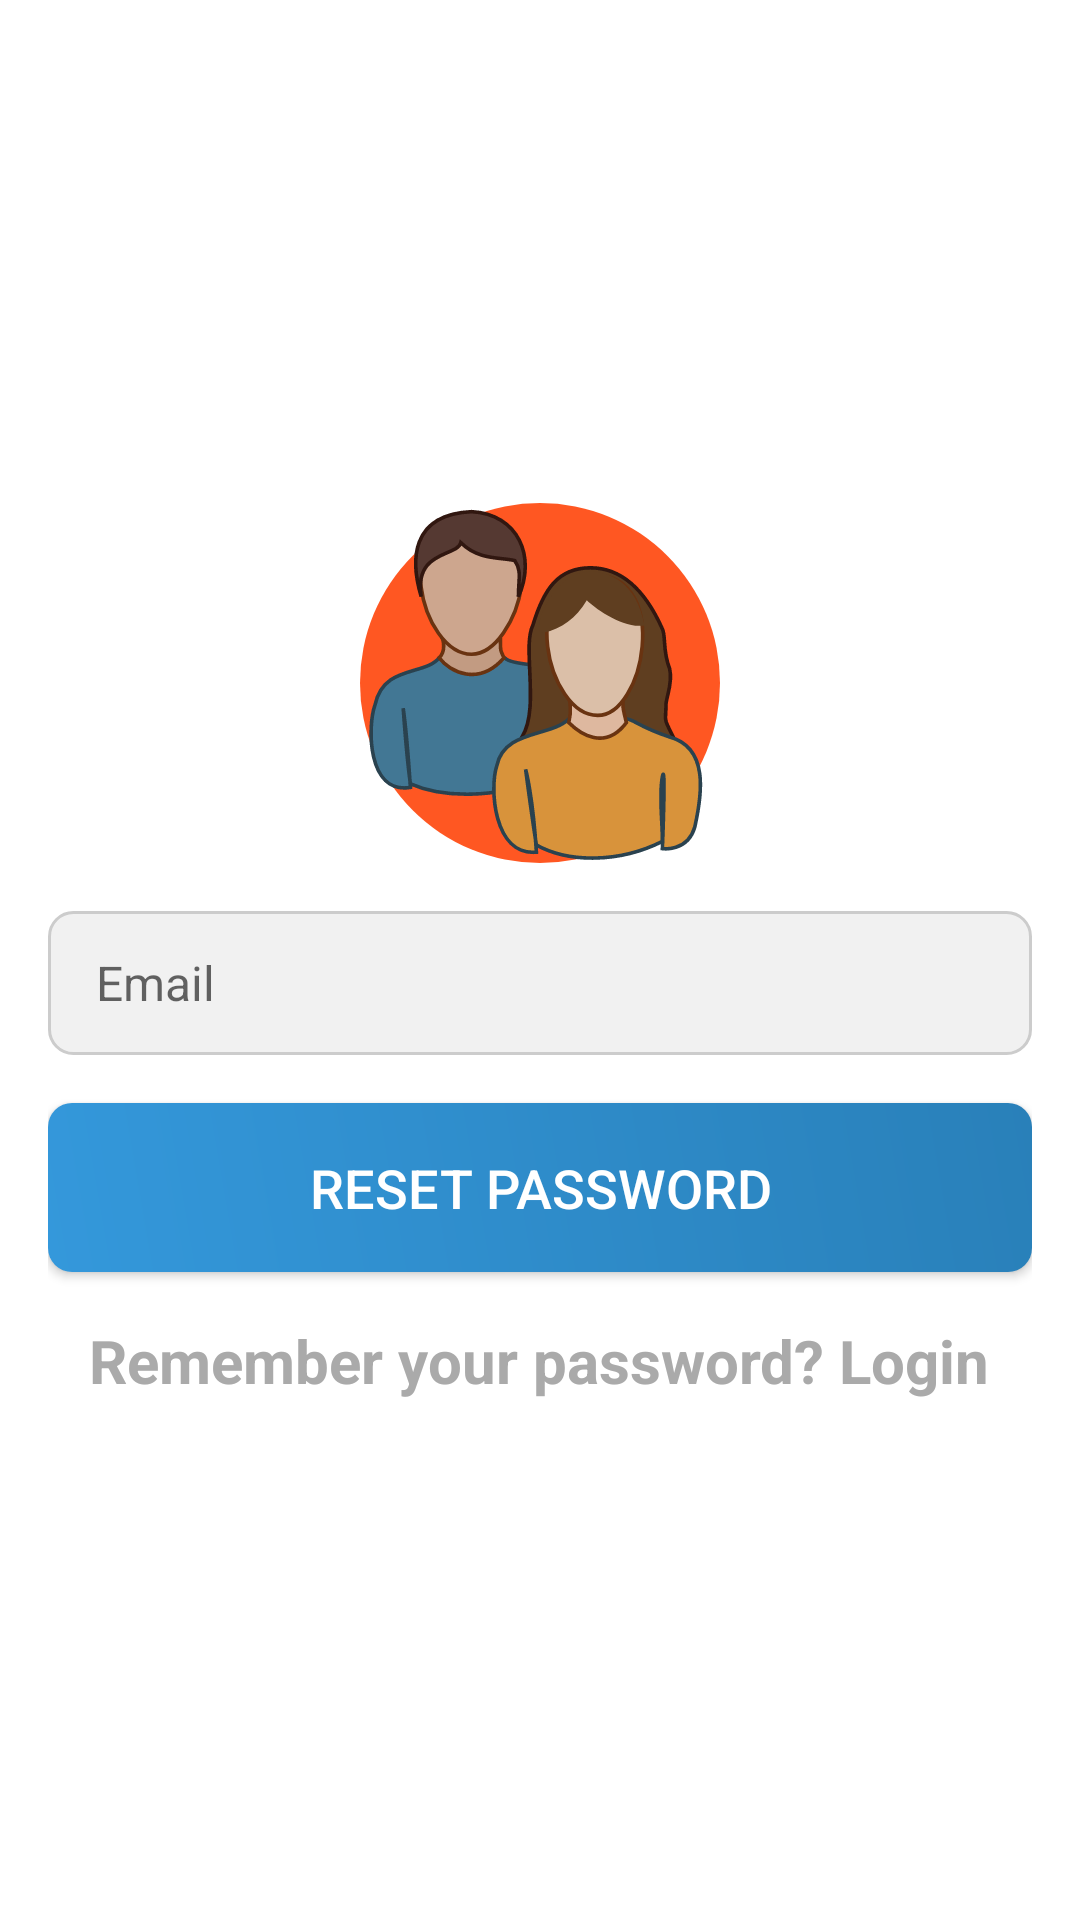

Icons on this 1080 x 1920 Android screen, each with the point to tap as [x,y]:
user: [540,683]
